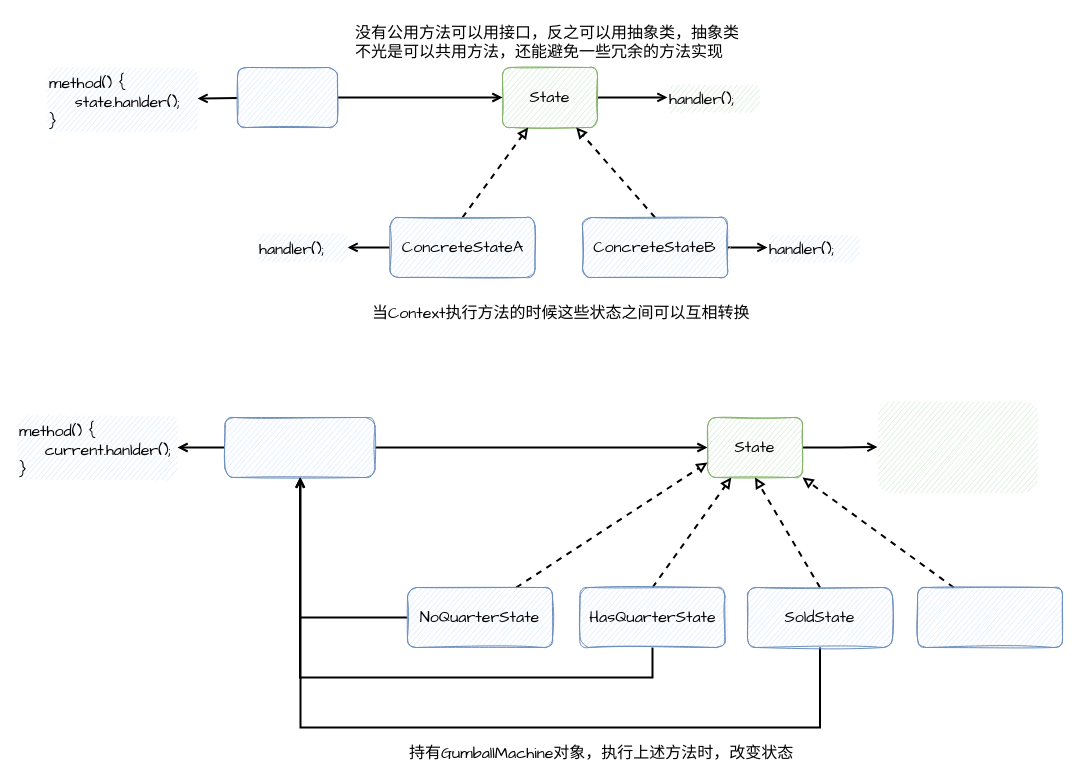
Image size: 1080x784. Some labels were removed from this diagram. The centre of each missing label's shape, as x and y in pixels:
Context: pixel 287 97
GumballMachine: pixel 299 447
insertQuarter(); ejectQuarter(); turnCrank(); dispense();: pixel 957 446
SoldOutState: pixel 989 617
